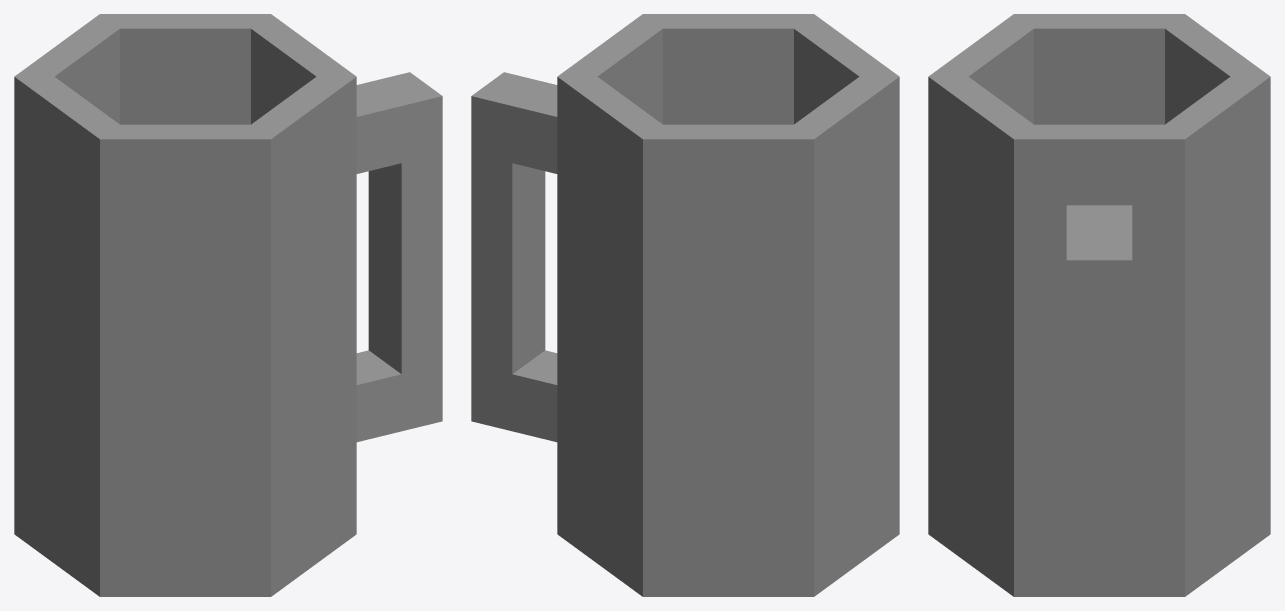
File: BeerMug.fbx
The picture shows the model from 3 angles, left to right: view 1: azimuth 30°, elevation 25°; view 2: azimuth 150°, elevation 25°; view 3: azimuth 270°, elevation 25°; orthographic projection.
Parts seen in each view (by area): view 1: BeerMug; view 2: BeerMug; view 3: BeerMug.
Boxes of the visible parts, box(x1,y1,x2,y2) form: BeerMug: box(14, 14, 442, 596); BeerMug: box(471, 14, 899, 596); BeerMug: box(928, 14, 1270, 596).
Bounding box in the file's own units: 0.1994 × 0.2362 × 0.1601.
